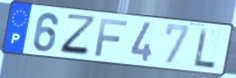4: (129, 21, 154, 65)
6: (31, 11, 60, 53)
7: (163, 23, 193, 68)
F: (93, 18, 130, 59)
L: (193, 26, 217, 70)
Z: (58, 13, 99, 59)
